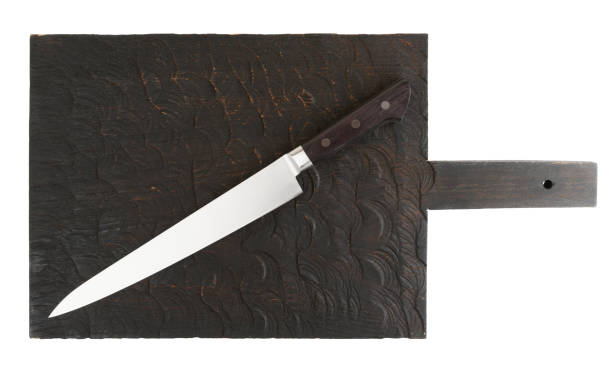knife: (45, 76, 417, 321)
